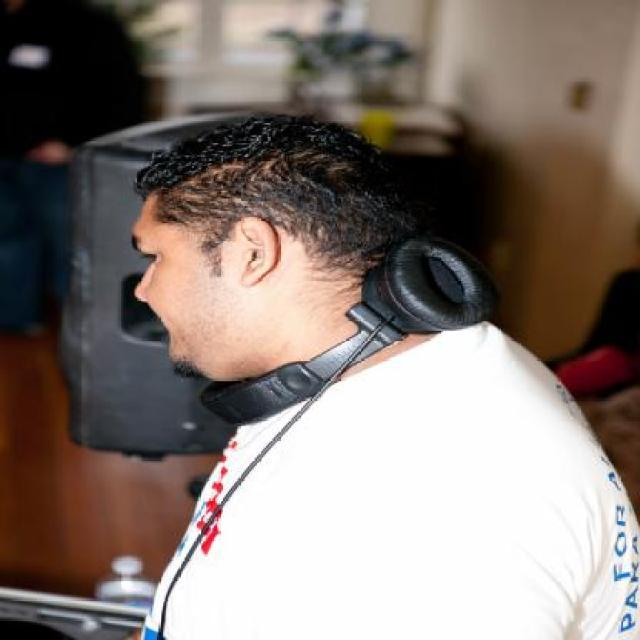earphone: (130, 244, 544, 436)
